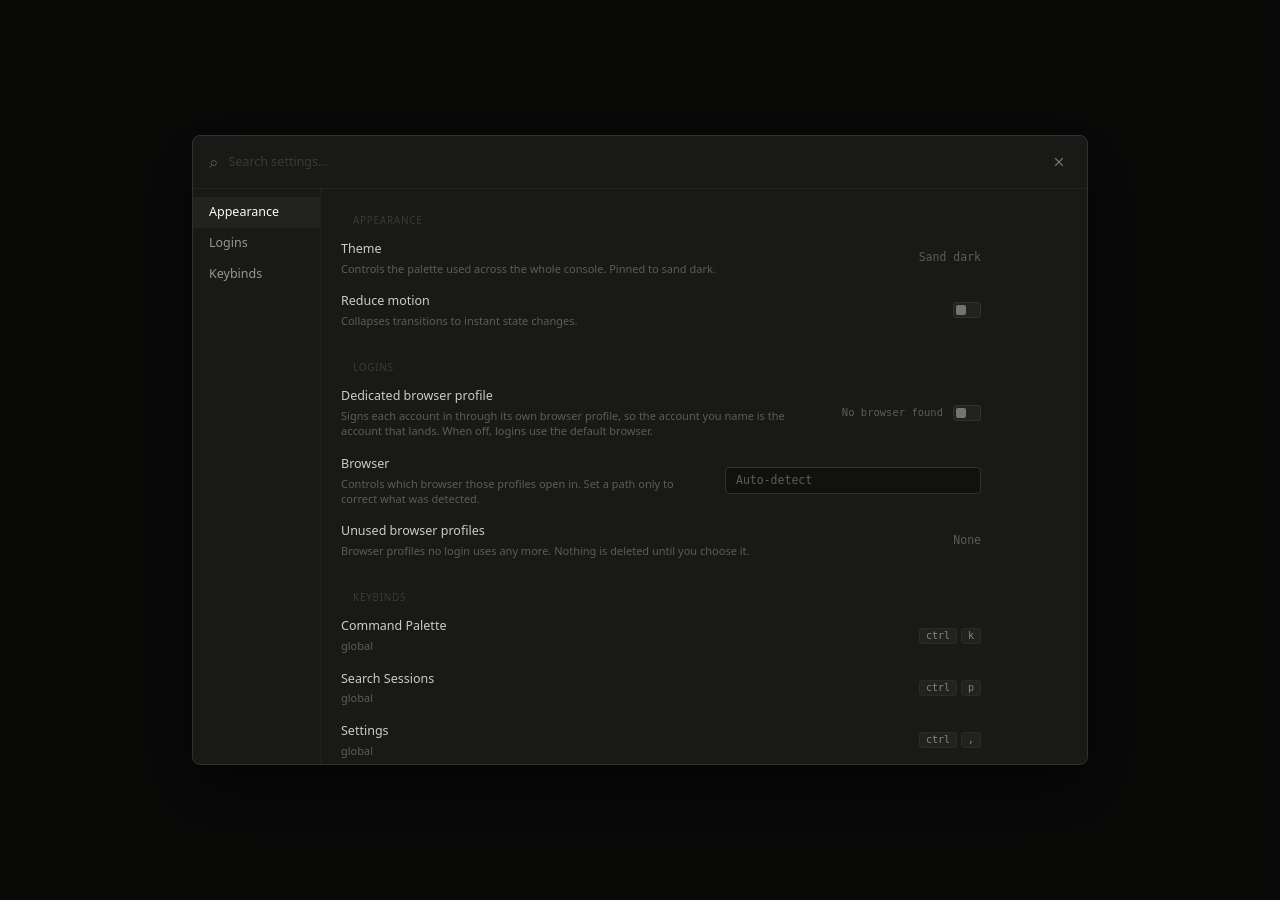
SettingsDialog › search filters rows and keybinds together
This screenshot has width=1280, height=900.
Type "palette" into the field with placeholder "Search settings…" at (631, 162), box 228,153 -> 1033,171
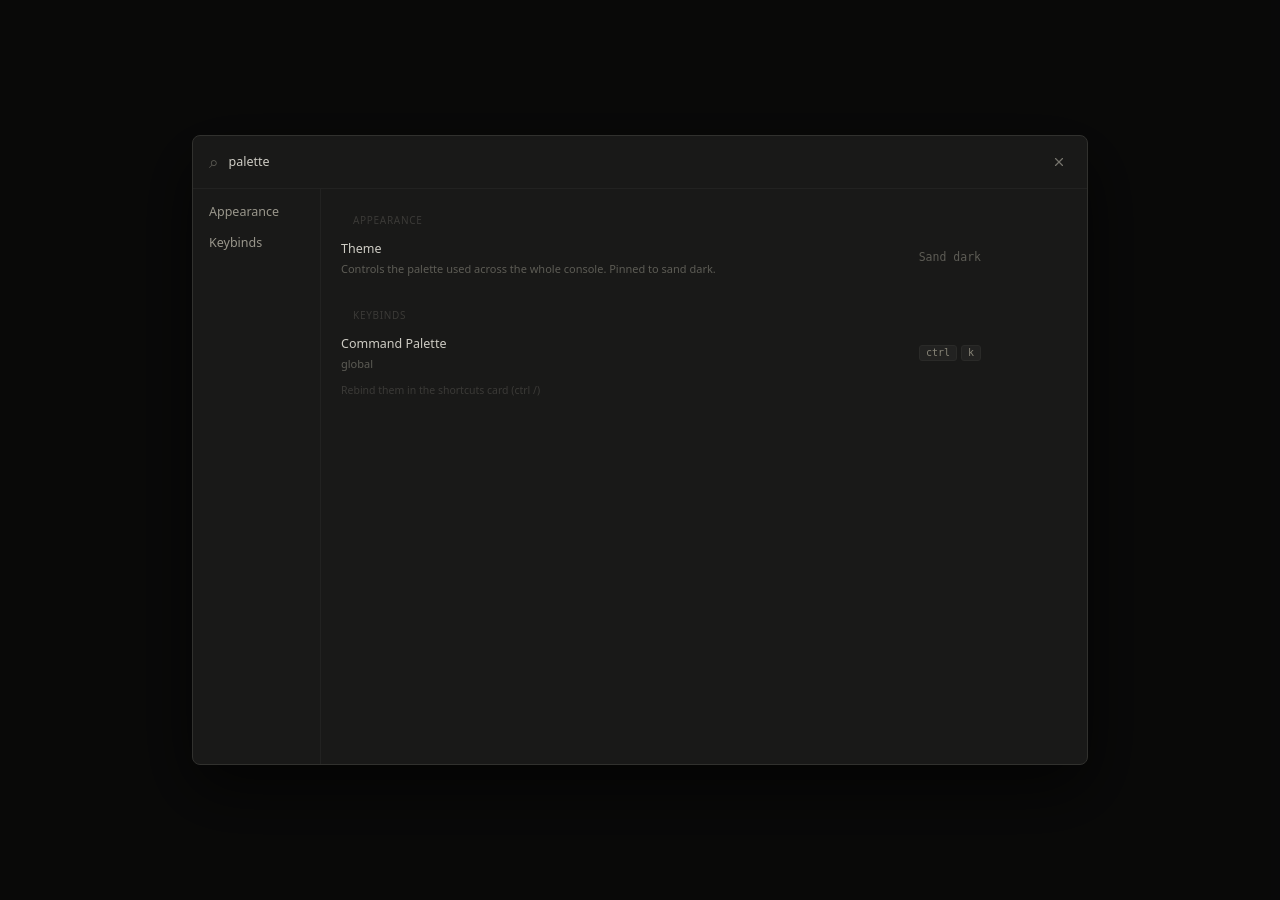
Check: the text "Command Palette" is shown, box 341,335 -> 446,352
Check: the text "Reduce motion" is gone
